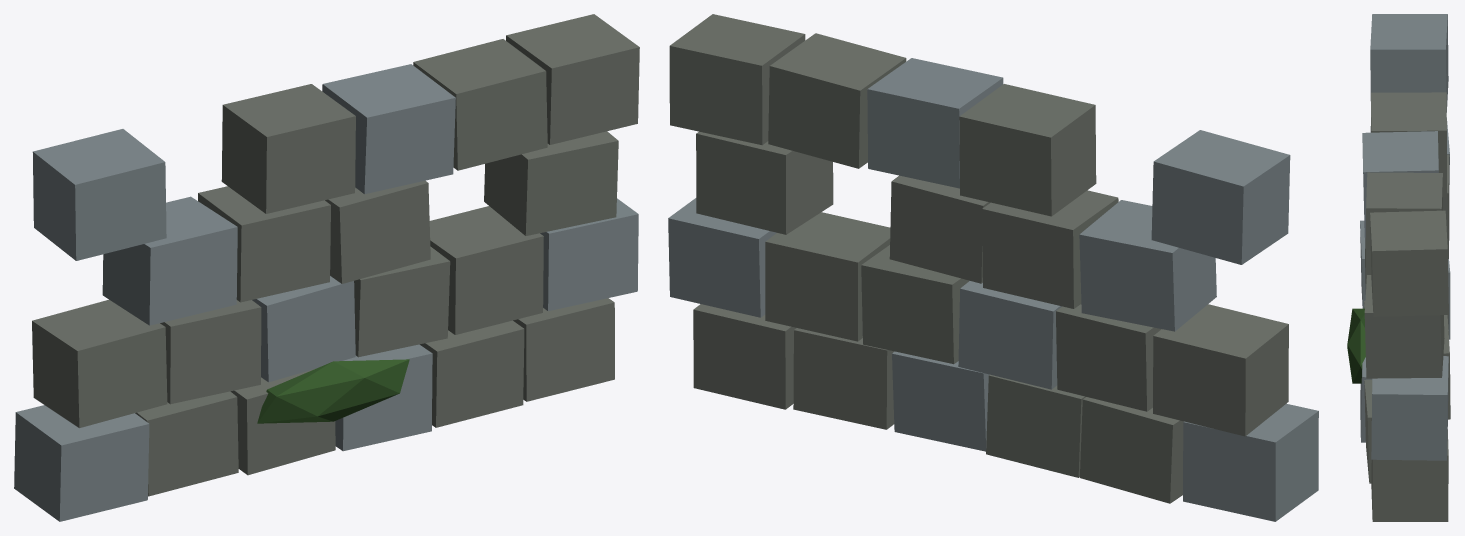
The model's file is ruin_wall_d.glb.
The picture shows the model from 3 angles, left to right: view 1: azimuth 30°, elevation 25°; view 2: azimuth 150°, elevation 25°; view 3: azimuth 270°, elevation 25°; orthographic projection. The views are drawn at different scales.
Visible parts, largest first — view 1: Block_3_2.001, Block_3_0.002, Block_1_0.003, Block_0_0.003, Block_2_1.002, Block_3_3.003, Block_3_4.001, Block_3_5.001, Block_1_4.003, Block_2_5.002, Block_2_2.002, Block_2_3.001 (+10 smaller); view 2: Block_3_0.002, Block_3_2.001, Block_1_0.003, Block_2_1.002, Block_0_0.003, Block_3_4.001, Block_3_5.001, Block_3_3.003, Block_1_4.003, Block_2_5.002, Block_2_2.002, Block_1_3.003 (+9 smaller); view 3: Block_3_5.001, Block_1_5.003, Block_3_0.002, Block_2_5.002, Block_0_5.003, Block_3_2.001, Block_3_3.003, Block_3_4.001, Moss.003, Block_0_4.003, Block_0_3.003, Block_0_0.003 (+3 smaller).
Boxes of the visible parts, box(x1,y1,x2,y2) form: Block_3_2.001: box(221, 84, 355, 213); Block_3_0.002: box(32, 129, 166, 260); Block_1_0.003: box(32, 299, 167, 428); Block_0_0.003: box(14, 405, 149, 521); Block_2_1.002: box(102, 196, 237, 325); Block_3_3.003: box(322, 64, 455, 194); Block_3_4.001: box(413, 39, 547, 170); Block_3_5.001: box(506, 14, 639, 144); Block_1_4.003: box(429, 206, 543, 334); Block_2_5.002: box(484, 131, 618, 235); Block_2_2.002: box(198, 186, 330, 302); Block_2_3.001: box(325, 180, 430, 283); Block_3_0.002: box(1151, 130, 1290, 264); Block_3_2.001: box(959, 84, 1096, 216); Block_1_0.003: box(1153, 304, 1288, 436); Block_2_1.002: box(1079, 200, 1216, 331); Block_0_0.003: box(1183, 403, 1318, 521); Block_3_4.001: box(768, 33, 906, 168); Block_3_5.001: box(669, 14, 805, 145); Block_3_3.003: box(867, 58, 1003, 188); Block_1_4.003: box(765, 212, 890, 341); Block_2_5.002: box(696, 131, 833, 234); Block_2_2.002: box(982, 190, 1118, 308); Block_1_3.003: box(861, 245, 969, 364); Block_3_5.001: box(1370, 210, 1448, 316); Block_1_5.003: box(1371, 356, 1448, 460); Block_3_0.002: box(1370, 14, 1448, 112); Block_2_5.002: box(1364, 275, 1444, 378); Block_0_5.003: box(1371, 418, 1448, 521); Block_3_2.001: box(1371, 92, 1447, 196); Block_3_3.003: box(1362, 131, 1438, 237); Block_3_4.001: box(1366, 172, 1442, 274); Moss.003: box(1347, 308, 1365, 383); Block_0_4.003: box(1364, 379, 1372, 483); Block_0_3.003: box(1360, 357, 1372, 442); Block_0_0.003: box(1360, 220, 1365, 308).
Bounding box in the file's own units: 4.48 × 2.42 × 0.792.
